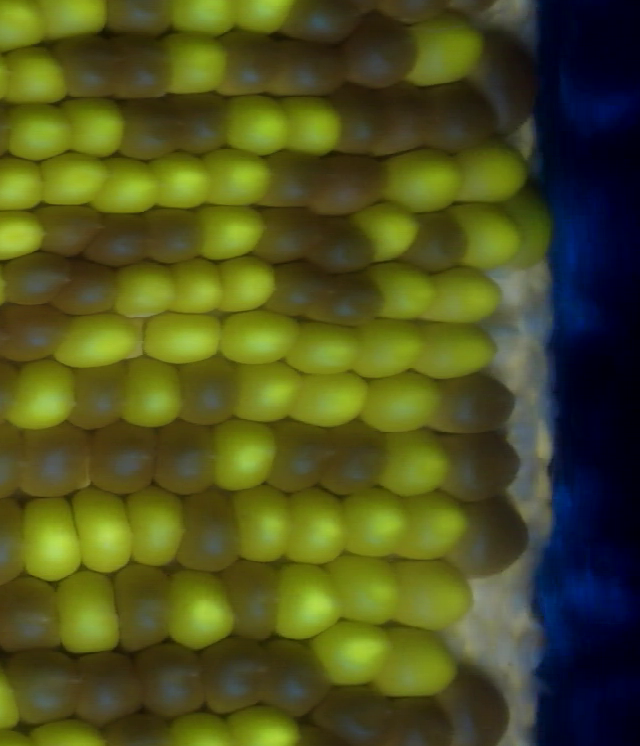fluorescent: (393, 550, 477, 640), (45, 566, 127, 657), (161, 560, 239, 653), (317, 555, 406, 629), (376, 623, 458, 702), (66, 482, 135, 575), (376, 146, 464, 218), (281, 483, 354, 566), (353, 370, 443, 435), (9, 353, 78, 435), (19, 493, 82, 582), (208, 414, 277, 495), (230, 481, 297, 564), (337, 486, 409, 562), (128, 480, 188, 569), (281, 554, 340, 644), (58, 309, 138, 375), (309, 619, 390, 683), (377, 428, 449, 498), (414, 323, 498, 381), (199, 143, 275, 207), (141, 145, 214, 211), (229, 356, 302, 422), (193, 197, 267, 262), (396, 492, 470, 557), (362, 259, 438, 322), (218, 307, 299, 366), (290, 364, 360, 432), (435, 256, 502, 327), (348, 316, 422, 380), (214, 248, 281, 317), (139, 309, 220, 366), (417, 16, 482, 87), (124, 356, 186, 430), (6, 39, 71, 107), (281, 322, 361, 376), (64, 97, 130, 162), (282, 95, 348, 160), (7, 98, 76, 160), (456, 141, 525, 203), (354, 199, 419, 264), (114, 255, 177, 322), (40, 146, 106, 209), (224, 93, 287, 157), (165, 27, 223, 96), (166, 257, 227, 320), (460, 202, 514, 271), (102, 151, 160, 214), (503, 196, 554, 261), (226, 707, 307, 746), (0, 153, 43, 214), (0, 208, 50, 260), (171, 1, 237, 40), (41, 2, 109, 39), (0, 1, 50, 44), (171, 711, 230, 746), (232, 1, 299, 29)
nonfluorescent: (474, 27, 546, 135), (437, 661, 517, 745), (438, 425, 524, 503), (1, 648, 87, 725), (13, 422, 96, 501), (451, 496, 530, 578), (132, 637, 209, 720), (174, 485, 243, 575), (262, 640, 334, 725), (343, 82, 418, 160), (199, 632, 267, 718), (150, 416, 222, 497), (220, 559, 285, 645), (112, 557, 171, 650), (346, 12, 420, 86), (87, 416, 154, 496), (0, 570, 66, 651), (324, 419, 390, 499), (76, 650, 145, 725), (267, 35, 349, 97), (3, 243, 81, 308), (416, 83, 492, 149), (67, 360, 135, 433), (177, 353, 239, 432), (30, 196, 104, 261), (45, 30, 114, 98), (317, 151, 386, 217), (443, 375, 518, 435), (111, 27, 170, 103), (56, 253, 119, 324), (318, 266, 385, 332), (408, 208, 472, 276), (219, 27, 277, 98), (271, 419, 325, 495), (324, 682, 395, 739), (314, 211, 376, 275), (0, 301, 62, 364), (256, 206, 320, 266), (117, 93, 172, 161), (88, 208, 149, 269), (143, 206, 203, 267), (269, 259, 322, 325), (381, 697, 452, 746), (264, 149, 320, 211), (277, 1, 368, 39), (172, 87, 223, 151), (103, 1, 174, 35)
